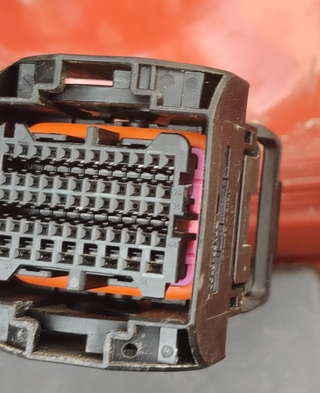connector: (1, 54, 250, 373)
